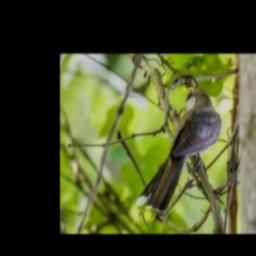Cuckoo: (135, 88, 222, 214)
